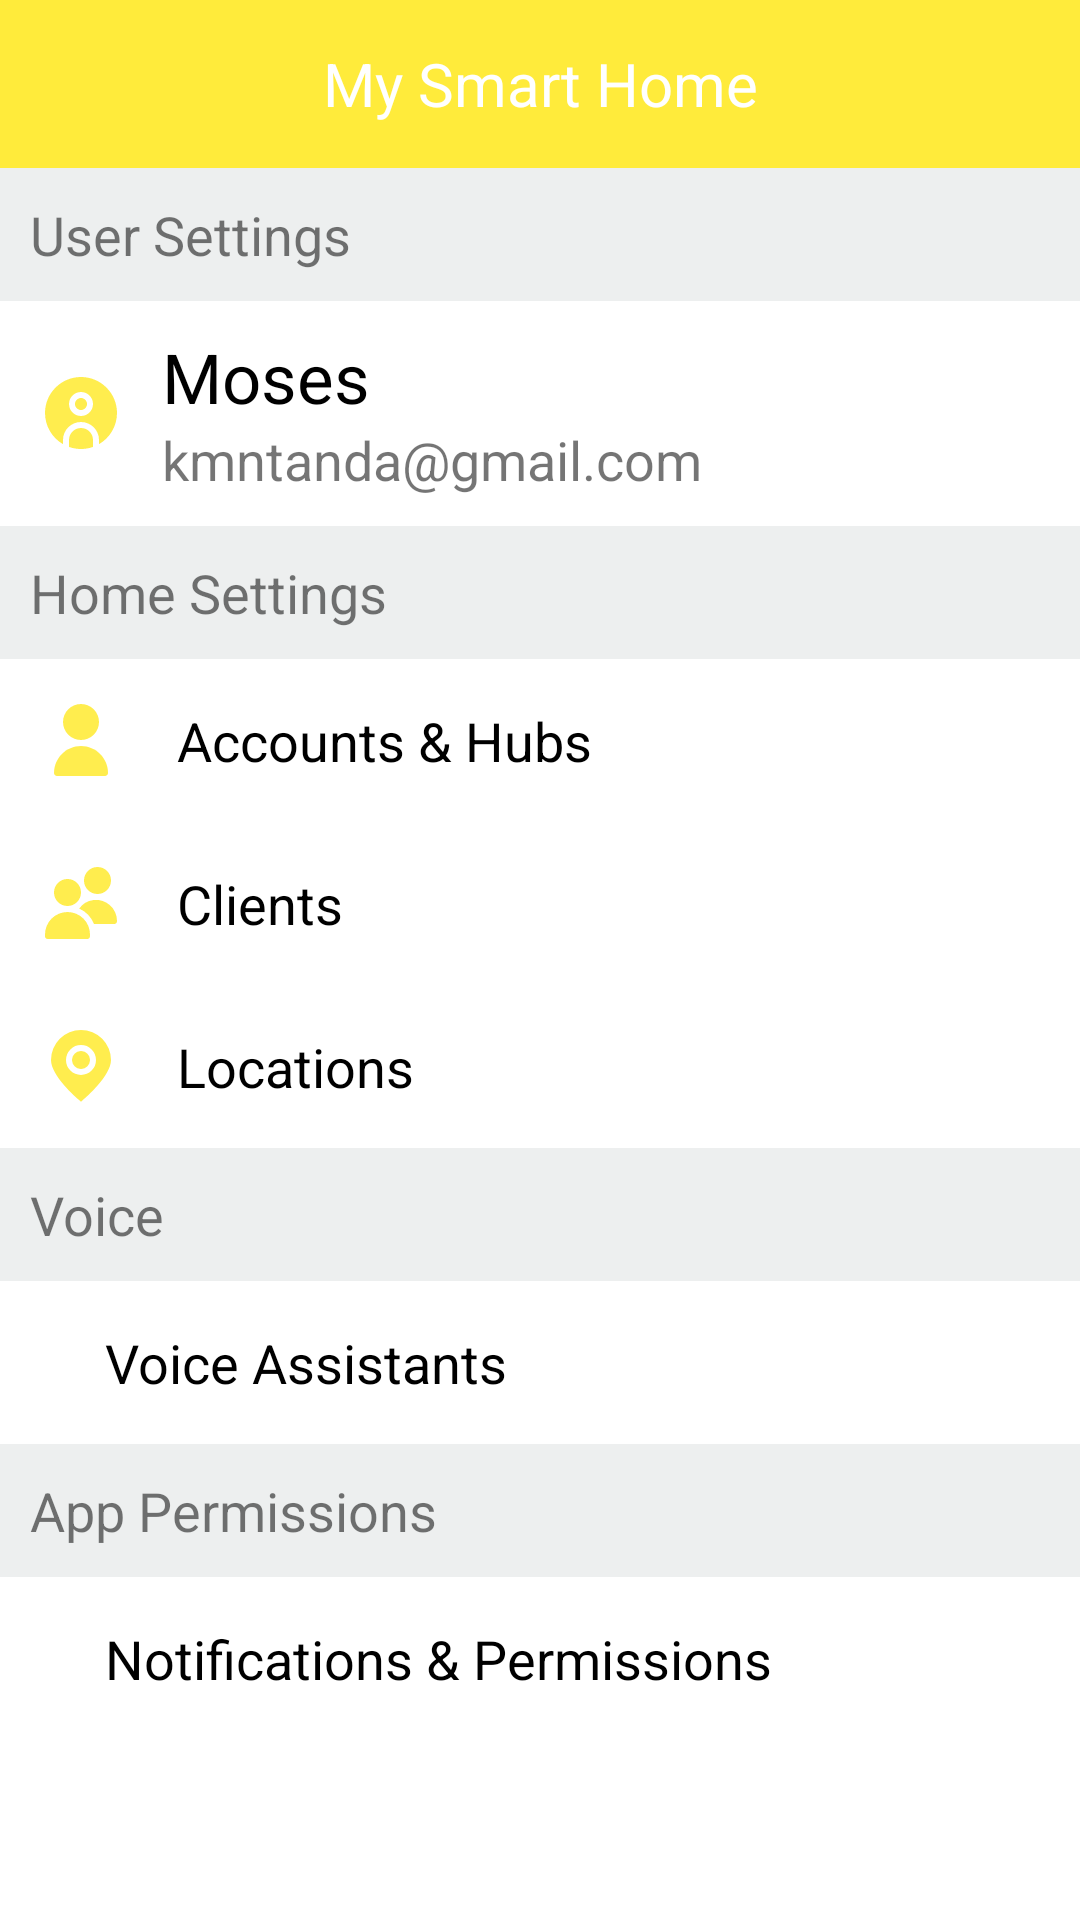

Where icons sit on this 1080x1920 app screen, as bbox=(x1, y1, x2, y2):
circle user: bbox=(45, 377, 117, 449)
marker: bbox=(51, 1030, 111, 1102)
user: bbox=(54, 704, 108, 776)
users: bbox=(45, 867, 117, 939)
